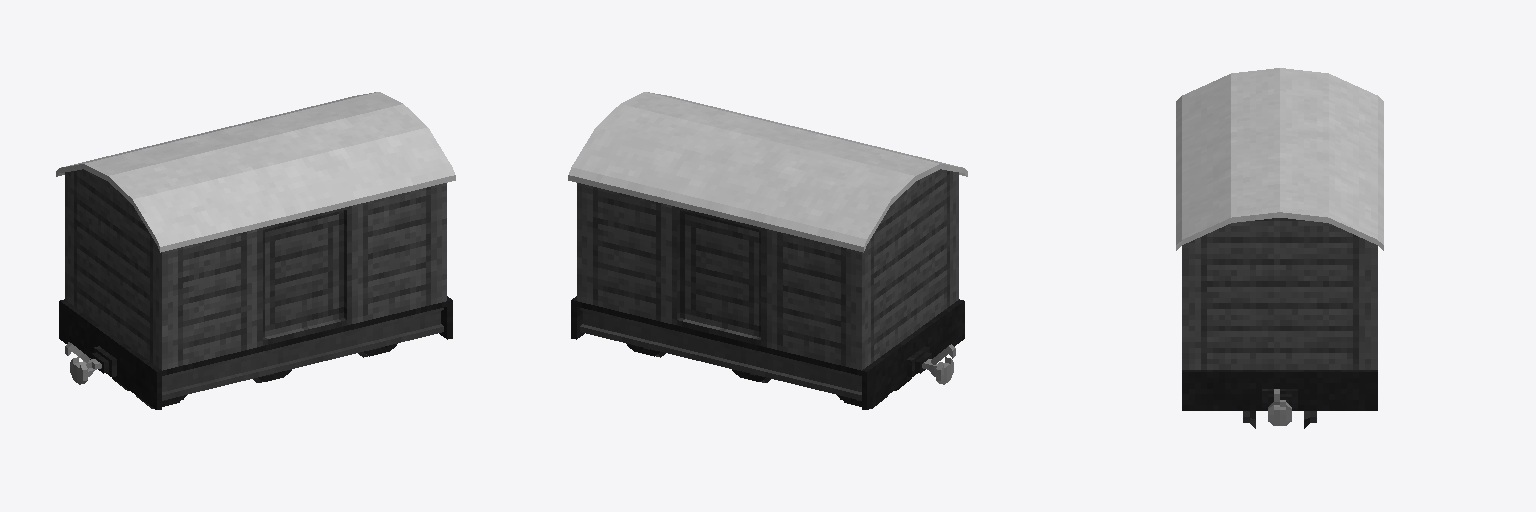
3 views of the same model, side by side, from view 1: azimuth 30°, elevation 25°; view 2: azimuth 150°, elevation 25°; view 3: azimuth 270°, elevation 25° (orthographic).
Parts seen in each view (by area): view 1: SHELL_WOOD, SHELL_WOOD.001, FRAME, DOOR_1, COUPLER_ENGAGED_FRONT_1_TOGGLE_LABEL_Uncouple; view 2: SHELL_WOOD, SHELL_WOOD.001, FRAME, DOOR_2, COUPLER_ENGAGED_FRONT_1_TOGGLE_LABEL_Uncouple; view 3: SHELL_WOOD.001, SHELL_WOOD, FRAME, COUPLER_ENGAGED_REAR_2_TOGGLE_LABEL_Uncouple.
Boxes of the visible parts, box(x1,y1,x2,y2) form: SHELL_WOOD: box(65, 169, 446, 370); SHELL_WOOD.001: box(56, 92, 455, 252); FRAME: box(59, 296, 452, 409); DOOR_1: box(263, 210, 343, 336); COUPLER_ENGAGED_FRONT_1_TOGGLE_LABEL_Uncouple: box(70, 346, 116, 384); SHELL_WOOD: box(577, 169, 958, 370); SHELL_WOOD.001: box(568, 92, 967, 252); FRAME: box(571, 296, 964, 409); DOOR_2: box(680, 210, 760, 336); COUPLER_ENGAGED_FRONT_1_TOGGLE_LABEL_Uncouple: box(907, 346, 953, 384); SHELL_WOOD.001: box(1176, 68, 1383, 250); SHELL_WOOD: box(1182, 218, 1377, 369); FRAME: box(1182, 370, 1377, 410); COUPLER_ENGAGED_REAR_2_TOGGLE_LABEL_Uncouple: box(1262, 389, 1297, 425).
Bounding box in the file's own units: 4.5 × 2.62 × 2.12.
3 materials, 3 textured.